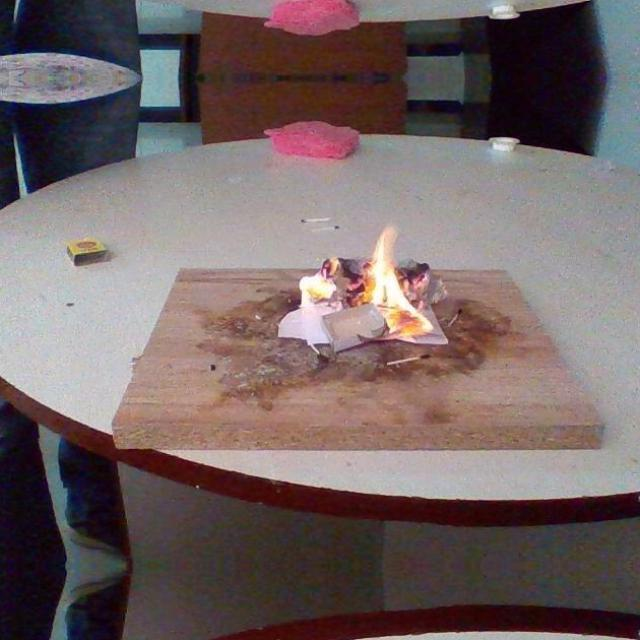smoke: (366, 224, 438, 335), (298, 259, 340, 308)
